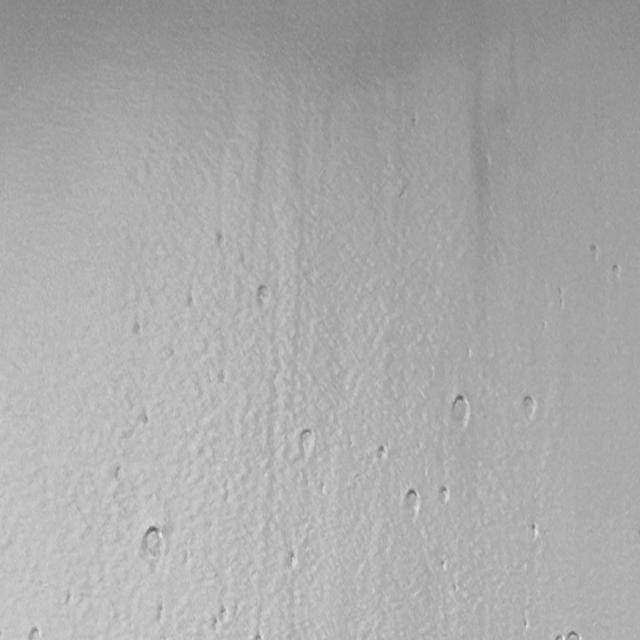pin holes: (140, 526, 170, 570), (446, 392, 472, 429), (294, 426, 318, 460), (401, 486, 423, 518), (519, 392, 541, 422), (252, 282, 272, 308), (527, 520, 546, 542), (130, 316, 148, 339), (436, 484, 454, 506), (284, 549, 301, 572), (111, 461, 128, 483), (153, 600, 168, 624), (206, 615, 222, 637), (214, 230, 229, 252), (139, 408, 152, 430), (219, 606, 234, 625), (25, 625, 43, 640), (376, 444, 390, 463), (554, 288, 566, 310), (610, 263, 624, 281), (587, 242, 600, 259), (62, 591, 75, 608), (563, 629, 585, 639), (186, 289, 196, 309)
